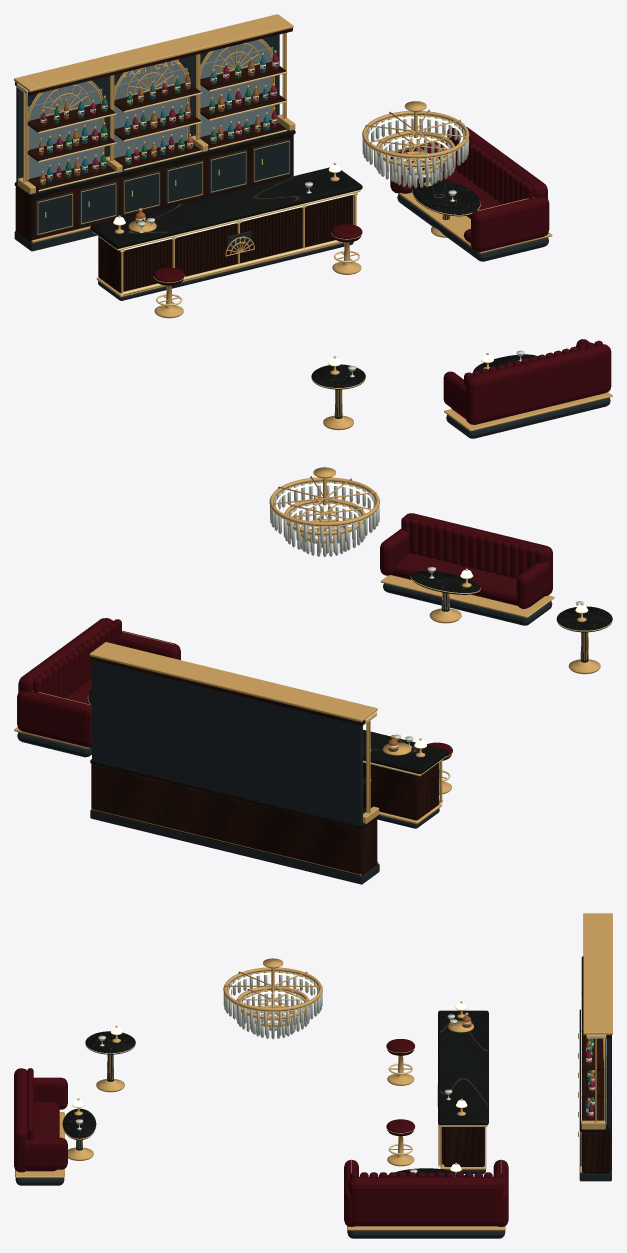
File: last-call-lounge.glb
3 views of the same model, one above another, from view 1: azimuth 30°, elevation 25°; view 2: azimuth 150°, elevation 25°; view 3: azimuth 270°, elevation 25° (orthographic). The views are drawn at different scales.
Visible parts, largest first — view 1: Last Call / 04 — bookmatched dark walnut, Last Call / 01 — antique champagne brass, Last Call / 05 — oxblood pebbled leather, Last Call / 06 — black lacquer, Last Call / 03 — black gold-veined marble, Last Call / 07 — smoked bronze mirrors, Last Call / 02 — polished golden highlights, Last Call / 13 — champagne cut crystal, Last Call / 08 — etched ivory paper, Last Call / 14 — warm opal luminous glass, Last Call / 11 — ruby glass bottles, Last Call / 10 — emerald glass bottles (+2 smaller); view 2: Last Call / 06 — black lacquer, Last Call / 05 — oxblood pebbled leather, Last Call / 04 — bookmatched dark walnut, Last Call / 01 — antique champagne brass, Last Call / 03 — black gold-veined marble, Last Call / 13 — champagne cut crystal, Last Call / 02 — polished golden highlights, Last Call / 14 — warm opal luminous glass; view 3: Last Call / 05 — oxblood pebbled leather, Last Call / 01 — antique champagne brass, Last Call / 03 — black gold-veined marble, Last Call / 04 — bookmatched dark walnut, Last Call / 13 — champagne cut crystal, Last Call / 06 — black lacquer, Last Call / 02 — polished golden highlights, Last Call / 14 — warm opal luminous glass.
Boxes of the visible parts, x1,y1,x2,y2 form: Last Call / 04 — bookmatched dark walnut: (15, 28, 361, 292); Last Call / 01 — antique champagne brass: (14, 14, 612, 431); Last Call / 05 — oxblood pebbled leather: (153, 127, 611, 424); Last Call / 06 — black lacquer: (14, 34, 610, 438); Last Call / 03 — black gold-veined marble: (14, 124, 537, 389); Last Call / 07 — smoked bronze mirrors: (27, 39, 273, 178); Last Call / 02 — polished golden highlights: (16, 59, 524, 388); Last Call / 13 — champagne cut crystal: (137, 114, 524, 377); Last Call / 08 — etched ivory paper: (39, 62, 278, 221); Last Call / 14 — warm opal luminous glass: (113, 116, 493, 365); Last Call / 11 — ruby glass bottles: (40, 53, 278, 179); Last Call / 10 — emerald glass bottles: (54, 64, 251, 178); Last Call / 06 — black lacquer: (17, 583, 588, 884); Last Call / 05 — oxblood pebbled leather: (17, 513, 552, 757); Last Call / 04 — bookmatched dark walnut: (90, 656, 451, 875); Last Call / 01 — antique champagne brass: (14, 467, 600, 875); Last Call / 03 — black gold-veined marble: (88, 571, 612, 829); Last Call / 13 — champagne cut crystal: (270, 481, 583, 747); Last Call / 02 — polished golden highlights: (87, 481, 612, 803); Last Call / 14 — warm opal luminous glass: (276, 483, 587, 747); Last Call / 05 — oxblood pebbled leather: (14, 1039, 508, 1226); Last Call / 01 — antique champagne brass: (15, 913, 612, 1230); Last Call / 03 — black gold-veined marble: (62, 1009, 611, 1176); Last Call / 04 — bookmatched dark walnut: (387, 956, 611, 1173); Last Call / 13 — champagne cut crystal: (76, 971, 457, 1173); Last Call / 06 — black lacquer: (15, 1038, 611, 1238); Last Call / 02 — polished golden highlights: (62, 957, 606, 1172); Last Call / 14 — warm opal luminous glass: (73, 973, 467, 1171).
Bounding box in the file's own units: 9.14 × 4.72 × 12.9.
14 materials, 3 textured.
